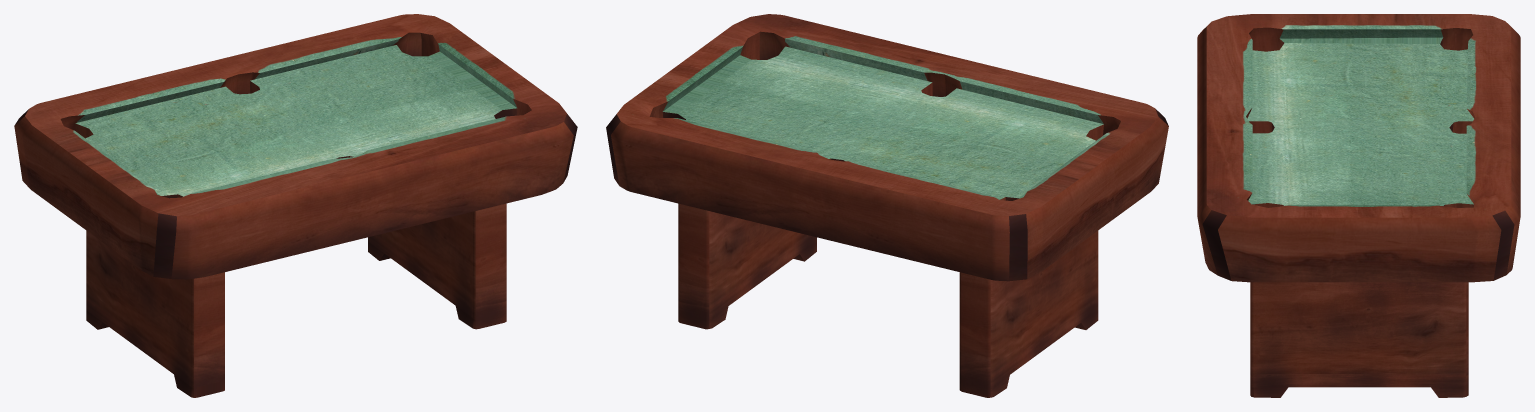
Rendered from poolTable.fbx.
3 renders of one model, left to right at view 1: azimuth 30°, elevation 25°; view 2: azimuth 150°, elevation 25°; view 3: azimuth 270°, elevation 25°, orthographic.
Parts seen in each view (by area): view 1: polySurface3; view 2: polySurface3; view 3: polySurface3.
Boxes of the visible parts, x1=… form: polySurface3: x1=14, y1=14, x2=577, y2=397; polySurface3: x1=606, y1=14, x2=1168, y2=397; polySurface3: x1=1197, y1=14, x2=1520, y2=397.
Size of the model in its own units: 21.09 by 9.62 by 13.74.
